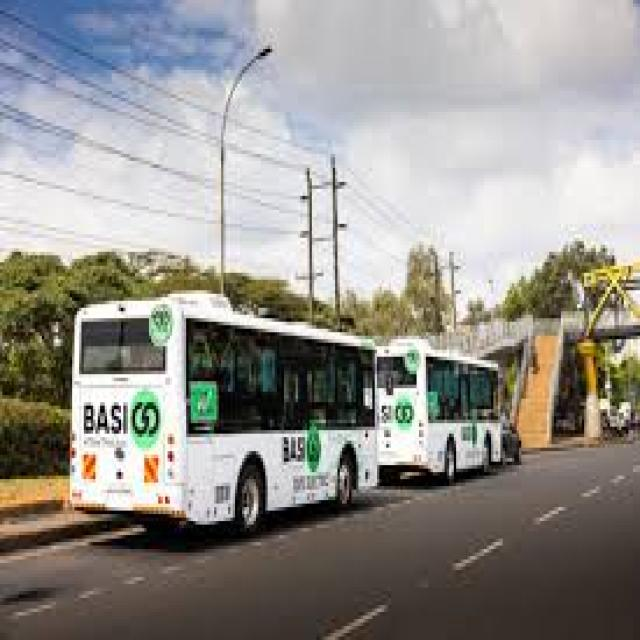bus: (58, 225, 386, 540)
